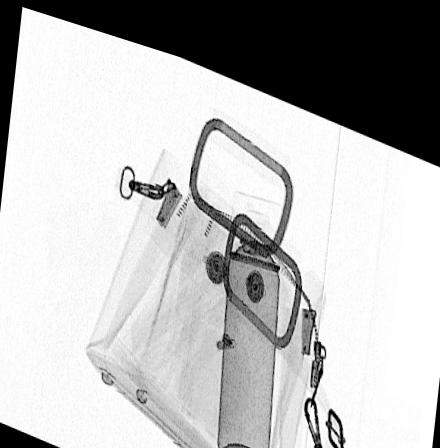Sprayer: (217, 171, 283, 448)
